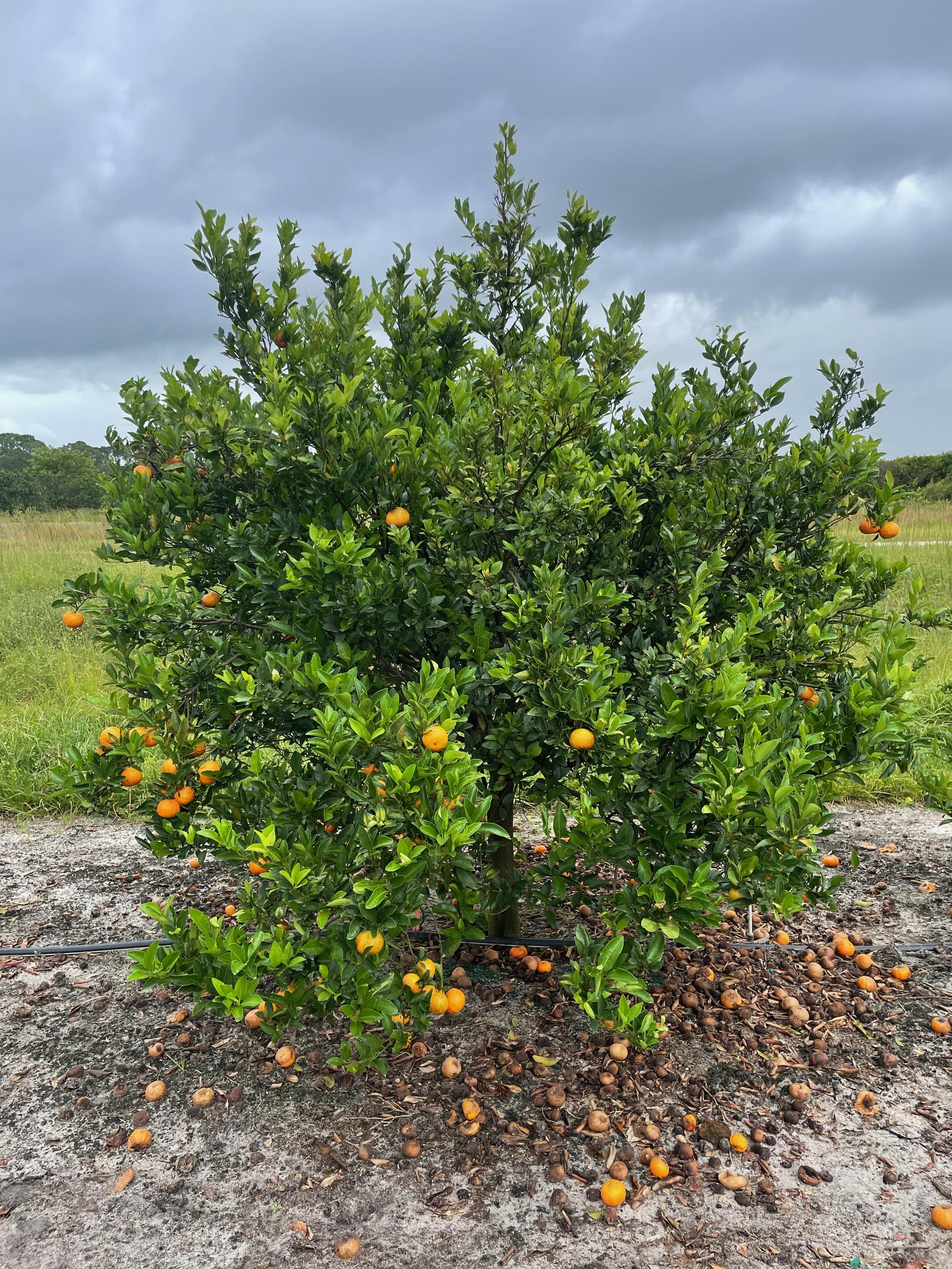fruit_on_ground: (353, 927, 385, 957), (419, 724, 450, 753), (97, 724, 127, 753), (154, 774, 185, 799), (780, 834, 811, 858), (385, 503, 412, 530), (568, 726, 596, 752), (373, 456, 402, 481), (196, 759, 222, 785), (726, 884, 754, 908), (438, 787, 463, 811), (445, 986, 467, 1013), (373, 774, 396, 799), (161, 452, 187, 474), (165, 714, 189, 737), (270, 326, 294, 349), (119, 765, 144, 787), (139, 725, 162, 748), (173, 783, 196, 806), (414, 957, 438, 979), (156, 798, 180, 820), (877, 518, 901, 540), (426, 992, 449, 1014), (247, 855, 271, 876), (361, 759, 384, 780), (62, 609, 85, 630), (400, 972, 422, 993), (132, 463, 154, 484), (859, 515, 880, 536), (127, 725, 149, 745), (161, 757, 182, 777), (200, 590, 222, 609), (186, 739, 207, 758), (321, 818, 339, 836), (796, 684, 814, 701), (194, 513, 212, 529), (803, 693, 819, 708)
fruit_on_tree: (334, 1232, 363, 1261), (599, 1179, 628, 1207), (853, 1090, 879, 1115), (274, 986, 300, 1009), (723, 1168, 750, 1190), (931, 1201, 952, 1229), (273, 1044, 297, 1068), (586, 1109, 611, 1132), (127, 1126, 152, 1149), (439, 1054, 462, 1079), (692, 965, 718, 987), (144, 1078, 168, 1101), (546, 1083, 569, 1106), (719, 988, 742, 1010), (835, 935, 857, 958), (727, 1131, 750, 1153), (606, 1159, 630, 1180), (459, 1097, 481, 1119), (788, 1080, 811, 1101), (191, 1087, 215, 1107), (451, 965, 474, 985), (788, 1007, 811, 1027), (607, 1040, 630, 1060), (242, 1009, 263, 1030), (257, 999, 279, 1019), (889, 962, 912, 981), (456, 1119, 481, 1136), (650, 1158, 671, 1178), (401, 1139, 422, 1159), (929, 1014, 950, 1034), (780, 995, 802, 1014), (877, 1049, 899, 1068), (546, 1162, 566, 1182), (679, 988, 700, 1007), (805, 961, 826, 980), (675, 1141, 695, 1160), (129, 1107, 150, 1125), (635, 1147, 656, 1165), (781, 1108, 803, 1125), (410, 1039, 429, 1058), (643, 1121, 663, 1139), (680, 1160, 700, 1178), (390, 1010, 411, 1027), (809, 1049, 830, 1066), (854, 953, 875, 970), (856, 974, 877, 991), (356, 1142, 374, 1161), (816, 944, 835, 962), (147, 1040, 166, 1058), (773, 928, 792, 946), (598, 1069, 618, 1086), (681, 1112, 699, 1130), (290, 1218, 309, 1235), (821, 851, 840, 868), (170, 1007, 189, 1023), (399, 1122, 418, 1138), (919, 879, 938, 895), (66, 1062, 86, 1077), (850, 931, 870, 946), (576, 901, 593, 918), (809, 1035, 827, 1051), (828, 1000, 846, 1016), (536, 958, 554, 974), (508, 944, 527, 959), (175, 1030, 192, 1046), (600, 1016, 618, 1031), (800, 947, 816, 963), (723, 906, 739, 922), (526, 955, 542, 971), (819, 955, 836, 970), (852, 998, 867, 1015), (75, 1094, 91, 1109), (750, 1127, 765, 1143), (222, 902, 238, 917), (747, 910, 762, 925), (548, 1106, 564, 1120), (485, 946, 501, 960), (275, 917, 291, 931), (751, 926, 766, 940), (509, 1062, 524, 1076), (187, 855, 202, 869), (626, 874, 641, 887), (533, 842, 548, 855), (500, 980, 514, 993), (875, 879, 887, 890), (558, 834, 570, 844)
